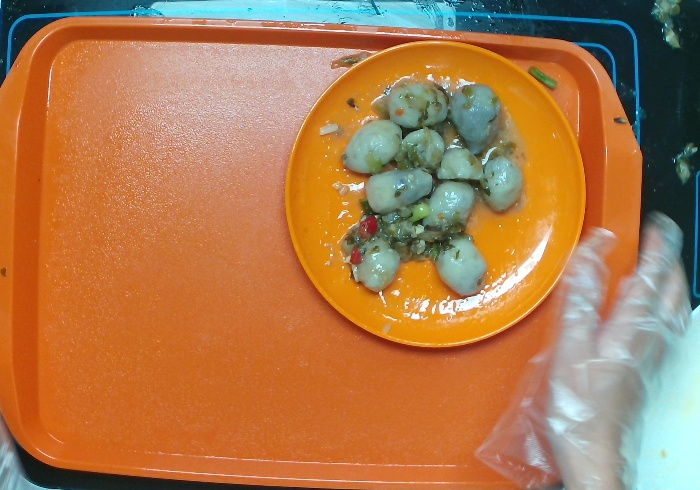HZYJPL-Ju_Huang_Yuan_Pan: (282, 38, 588, 350)
